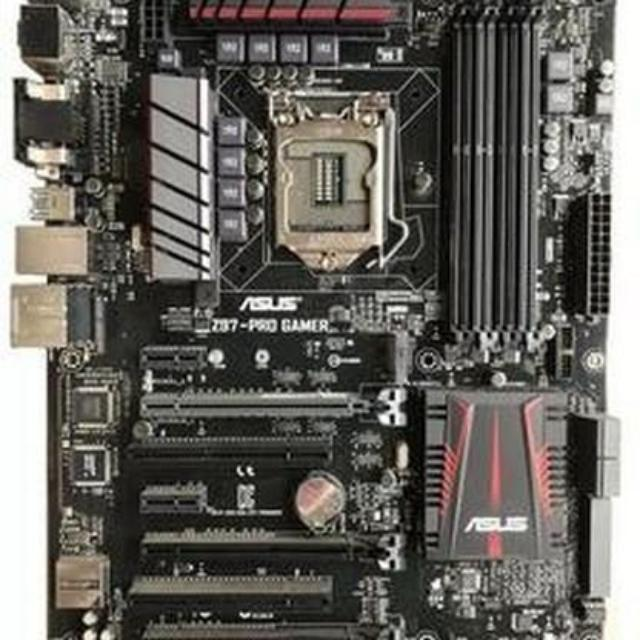Mainboard: (37, 0, 608, 640)
